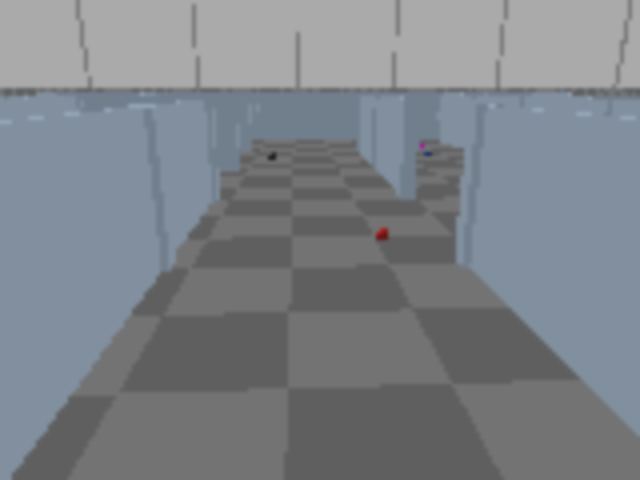puck: (373, 226, 392, 244)
